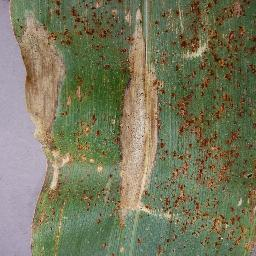Corn_Blight: (169, 2, 256, 255), (6, 8, 76, 193), (98, 6, 162, 204), (108, 208, 166, 254), (79, 2, 95, 168), (31, 201, 69, 254), (81, 181, 95, 216)
